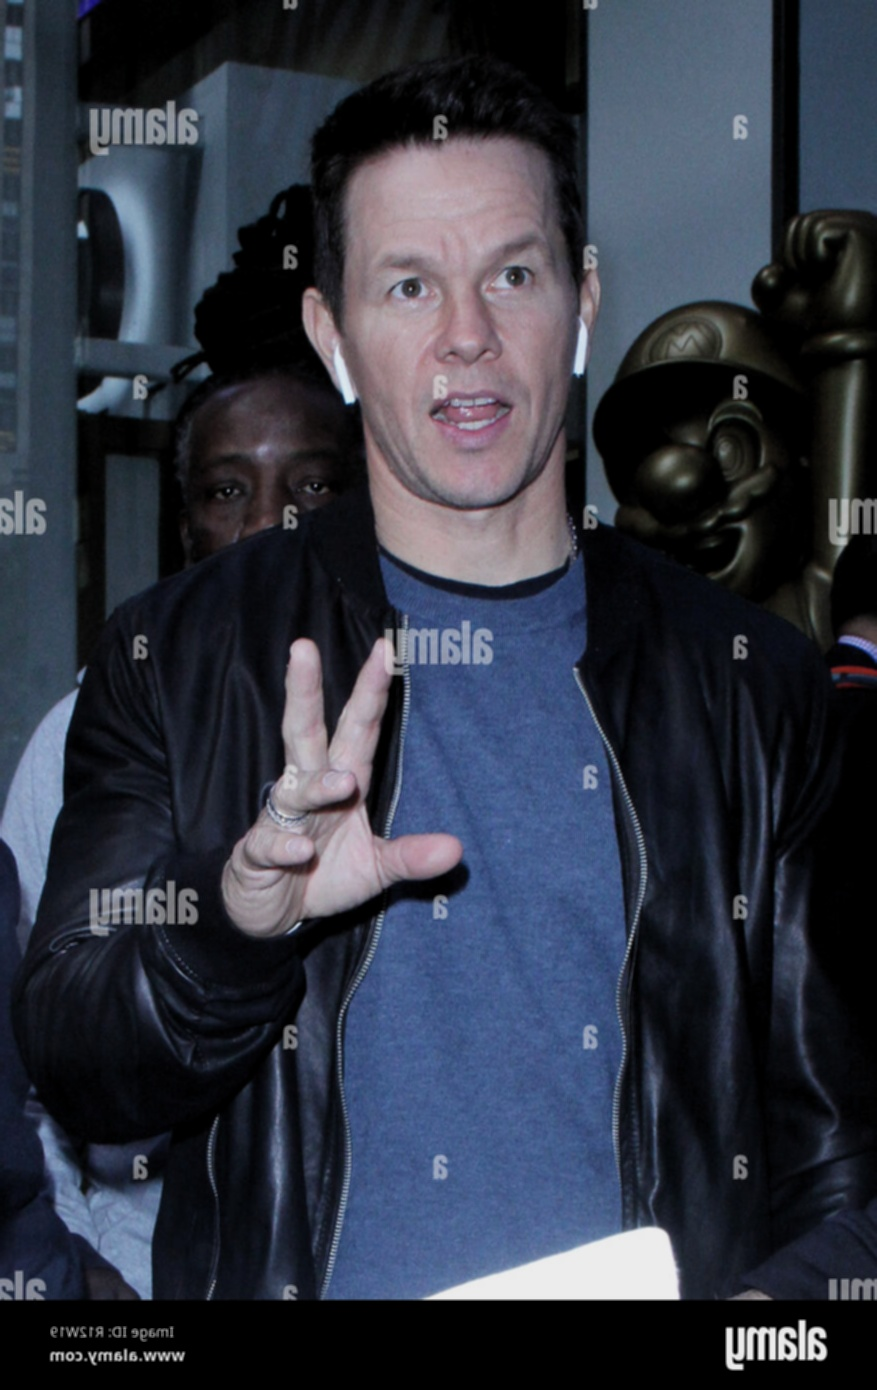earphone: (301, 288, 358, 404), (571, 267, 601, 377)
